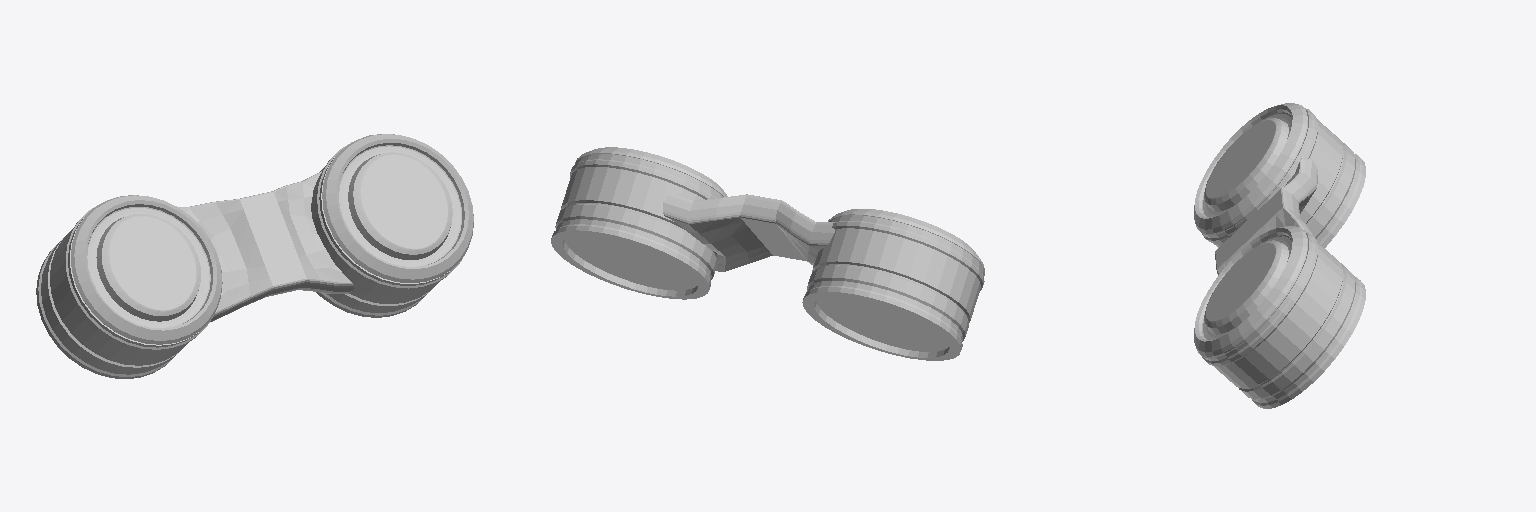
Rendered from gafas4.obj.
3 renders of one model, left to right at view 1: azimuth 30°, elevation 25°; view 2: azimuth 150°, elevation 25°; view 3: azimuth 270°, elevation 25°, orthographic.
Visible parts, largest first — view 1: Plano_Plano.001; view 2: Plano_Plano.001; view 3: Plano_Plano.001.
Boxes of the visible parts, <box> form: Plano_Plano.001: <box>36,134,473,378</box>; Plano_Plano.001: <box>551,147,984,360</box>; Plano_Plano.001: <box>1194,103,1365,408</box>.
Size of the model in its own units: 1.84 by 0.7057 by 0.6834.